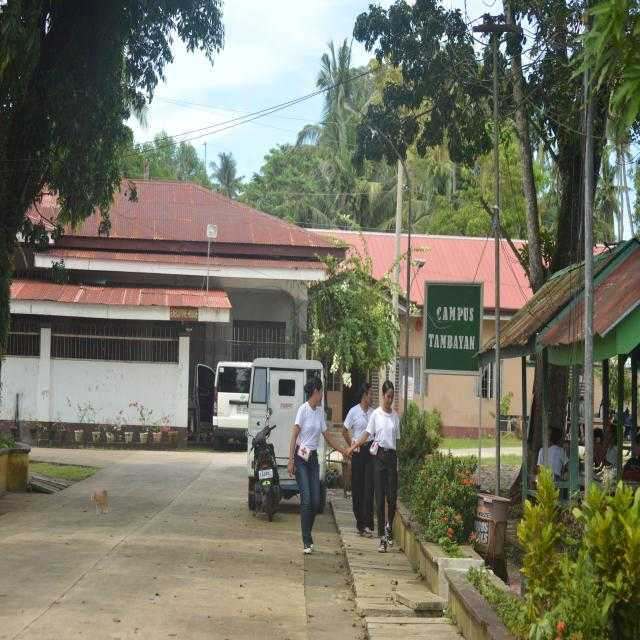person: (288, 377, 347, 554), (348, 381, 400, 552), (351, 436, 374, 537), (548, 427, 569, 481)
